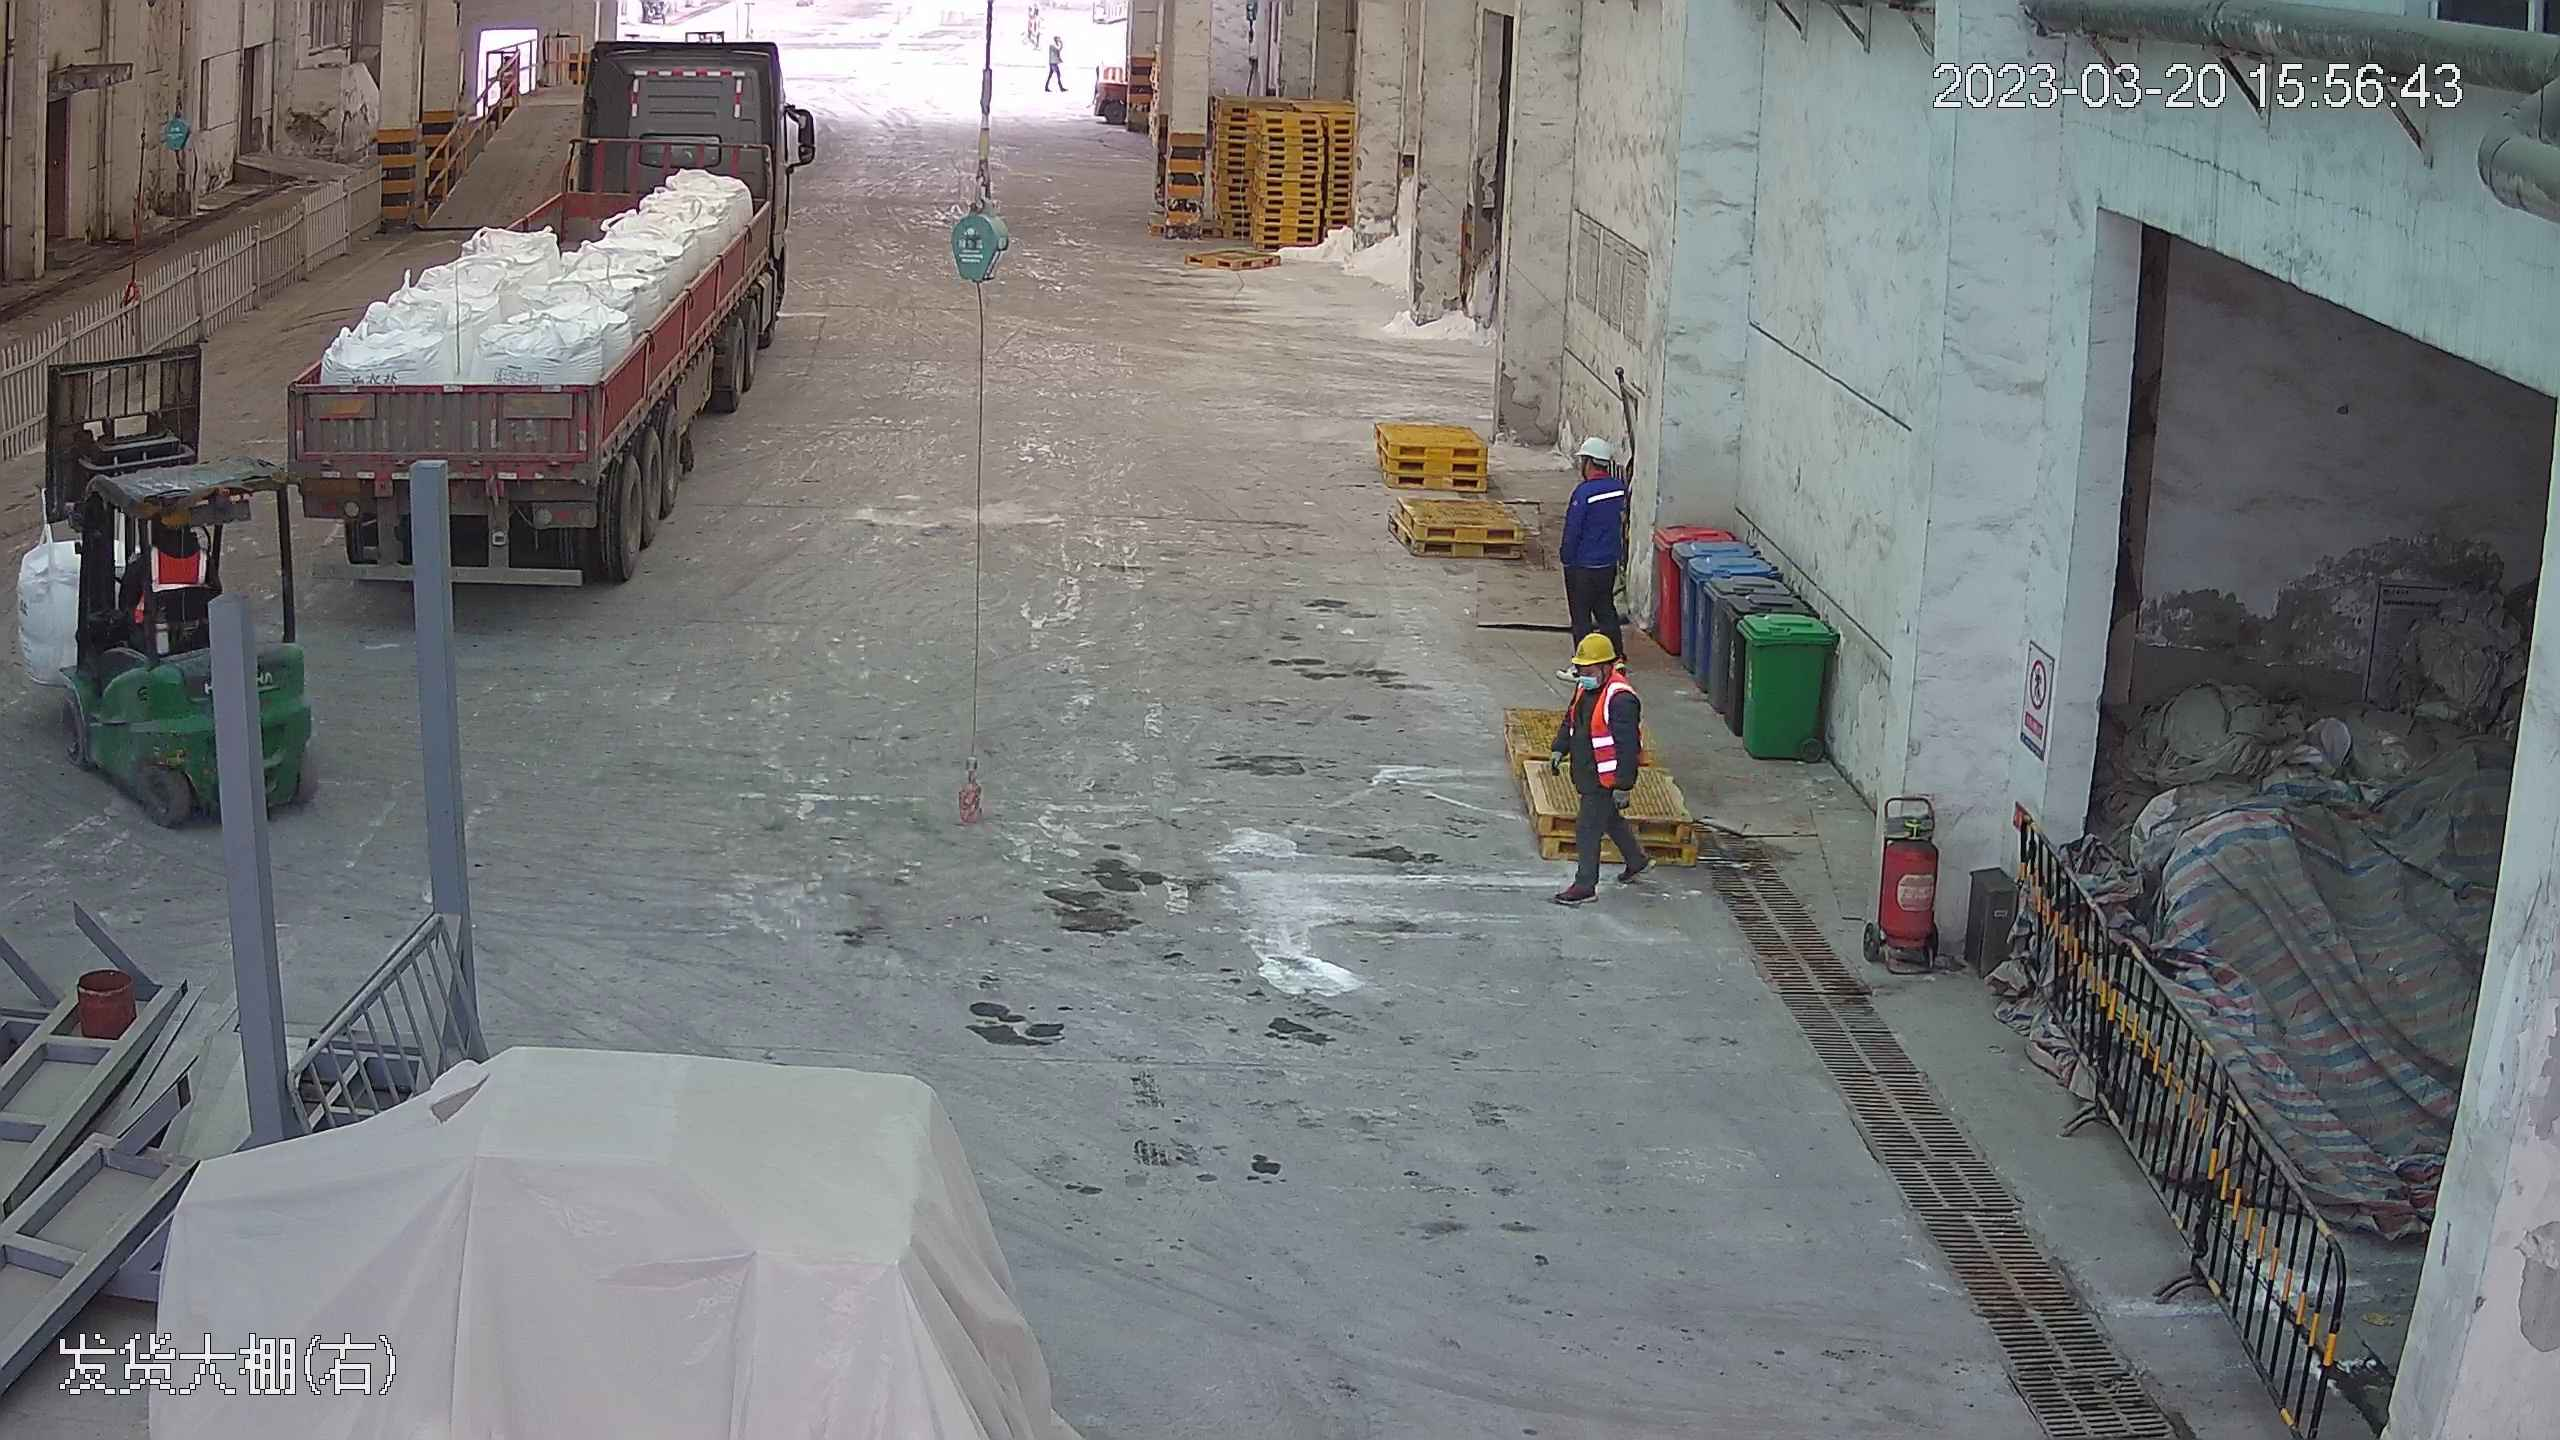head: (1562, 628, 1636, 719), (1566, 435, 1632, 513)
helmet: (1564, 628, 1636, 719), (1571, 629, 1618, 667), (1579, 434, 1620, 466)
people: (1547, 625, 1654, 904), (1554, 432, 1635, 655), (1043, 34, 1069, 94)
truck: (263, 14, 795, 582)
